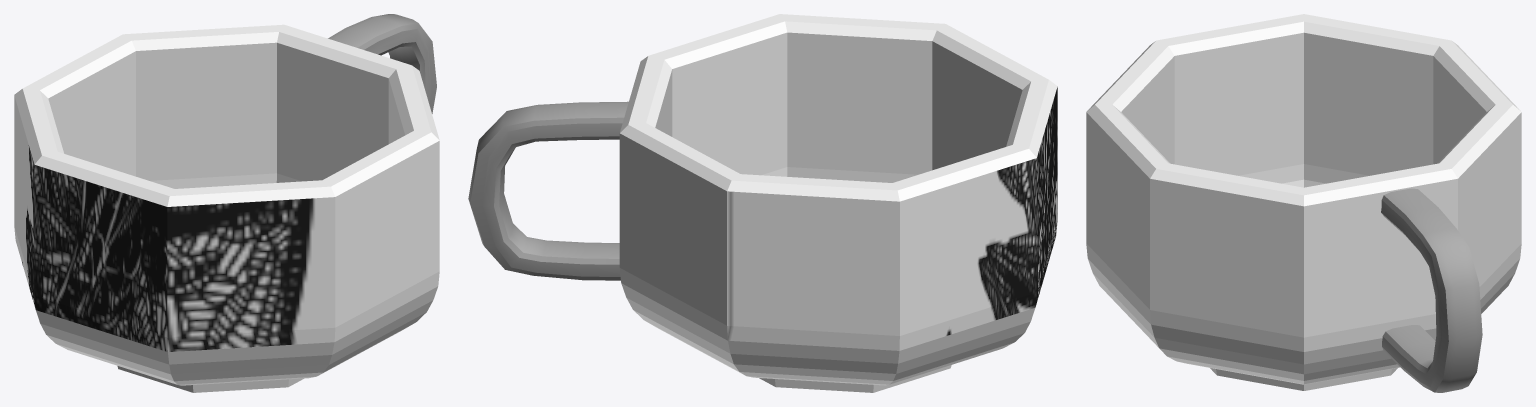
File: vaso.fbx
The picture shows the model from 3 angles, left to right: view 1: azimuth 30°, elevation 25°; view 2: azimuth 150°, elevation 25°; view 3: azimuth 270°, elevation 25°; orthographic projection. The views are drawn at different scales.
Visible parts, largest first — view 1: pCylinder1, pCube2; view 2: pCylinder1, pCube2; view 3: pCylinder1, pCube2.
Part boxes in pixels (box(x1,y1,x2,y2)): pCylinder1: box(14, 24, 439, 392); pCube2: box(328, 14, 436, 113); pCylinder1: box(619, 14, 1057, 392); pCube2: box(468, 101, 628, 280); pCylinder1: box(1086, 14, 1521, 390); pCube2: box(1381, 188, 1482, 392).
Size of the model in its own units: 11.64 by 5.44 by 9.2.
Materials: 2 (1 with a texture image).
